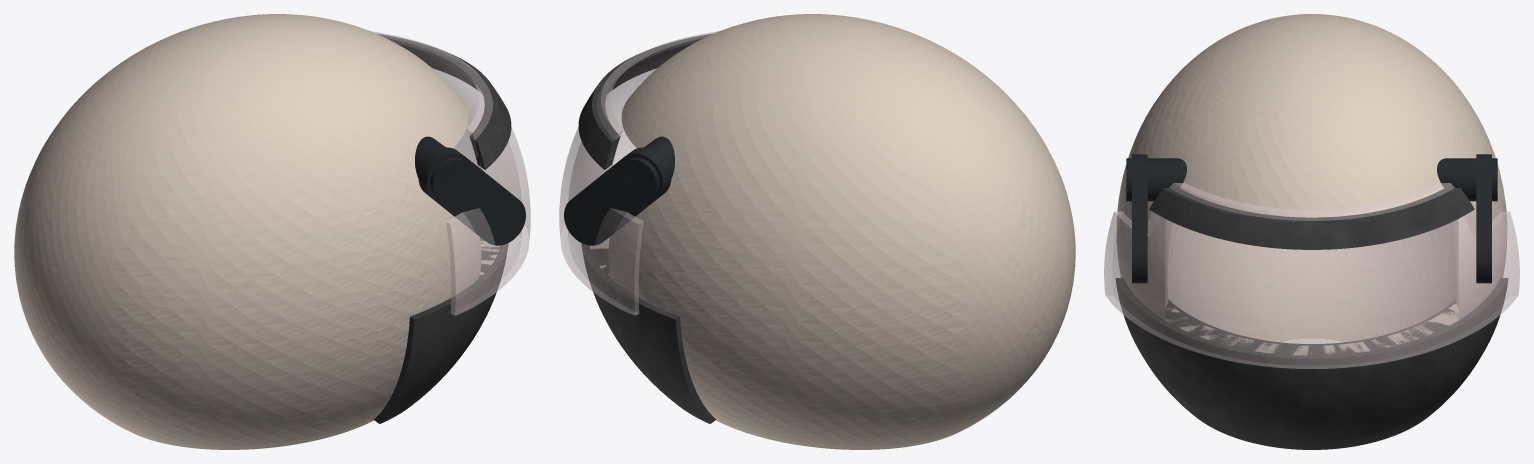
Rendered from Headwear_Racing_helmet__0000.glb.
The picture shows the model from 3 angles, left to right: view 1: azimuth 30°, elevation 25°; view 2: azimuth 150°, elevation 25°; view 3: azimuth 270°, elevation 25°; orthographic projection. The views are drawn at different scales.
Visible parts, largest first — view 1: shell::shell_dome, visor::visor_panel, shell::chin_trim, visor::visor_pivot_arms, visor::visor_trim, pivot_stud_right::pivot_stud_right, visor::visor_axle; view 2: shell::shell_dome, visor::visor_panel, shell::chin_trim, visor::visor_pivot_arms, visor::visor_trim, pivot_stud_left::pivot_stud_left, visor::visor_axle; view 3: shell::shell_dome, visor::visor_panel, shell::chin_trim, visor::visor_trim, visor::visor_pivot_arms, visor::visor_axle.
Part boxes in pixels (x1,y1,x2,y2): shell::shell_dome: (14, 14, 499, 449); visor::visor_panel: (370, 31, 530, 315); shell::chin_trim: (373, 237, 508, 423); visor::visor_pivot_arms: (418, 147, 525, 245); visor::visor_trim: (377, 33, 511, 169); pivot_stud_right::pivot_stud_right: (430, 157, 472, 201); visor::visor_axle: (415, 136, 451, 193); shell::shell_dome: (590, 14, 1075, 449); visor::visor_panel: (559, 31, 719, 315); shell::chin_trim: (581, 243, 716, 423); visor::visor_pivot_arms: (564, 147, 671, 245); visor::visor_trim: (578, 34, 711, 169); pivot_stud_left::pivot_stud_left: (617, 157, 659, 201); visor::visor_axle: (638, 136, 674, 193); shell::shell_dome: (1117, 14, 1506, 355); visor::visor_panel: (1104, 183, 1519, 368); shell::chin_trim: (1116, 278, 1507, 449); visor::visor_trim: (1149, 188, 1474, 249); visor::visor_pivot_arms: (1132, 154, 1491, 283); visor::visor_axle: (1147, 158, 1476, 201).
Bounding box in the file's own units: 0.264 × 0.1933 × 0.2127.
Materials: 4 (3 with a texture image).
